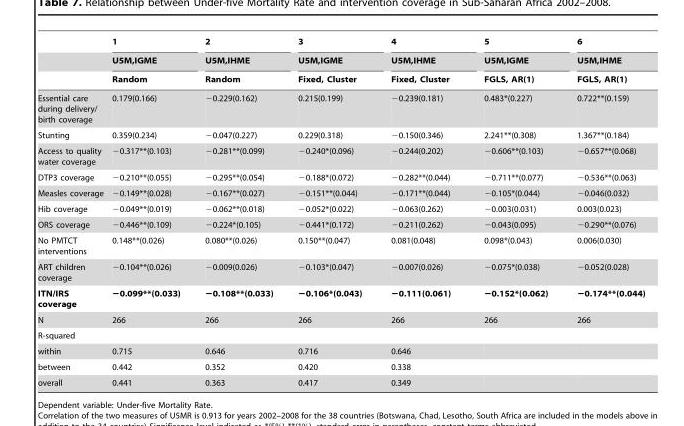table: (36, 36, 644, 386)
table column: (466, 36, 561, 386), (192, 36, 285, 386), (375, 36, 466, 386), (285, 36, 375, 386), (107, 36, 192, 386), (561, 36, 644, 386), (36, 36, 107, 386)
table column header: (36, 36, 644, 88)
table projected row header: (36, 327, 644, 343)
table row: (36, 88, 644, 127), (36, 142, 644, 169), (36, 258, 644, 285), (36, 232, 644, 258), (36, 285, 644, 311), (36, 50, 644, 69), (36, 69, 644, 88), (36, 169, 644, 185), (36, 200, 644, 216), (36, 216, 644, 232), (36, 311, 644, 327), (36, 327, 644, 343), (36, 358, 644, 374), (36, 127, 644, 142), (36, 185, 644, 200), (36, 343, 644, 358), (36, 36, 644, 50), (36, 374, 644, 386)
table spanning cell: (466, 36, 561, 88), (192, 36, 285, 88), (375, 36, 466, 88), (285, 36, 375, 88), (107, 36, 192, 88), (561, 36, 644, 88)
